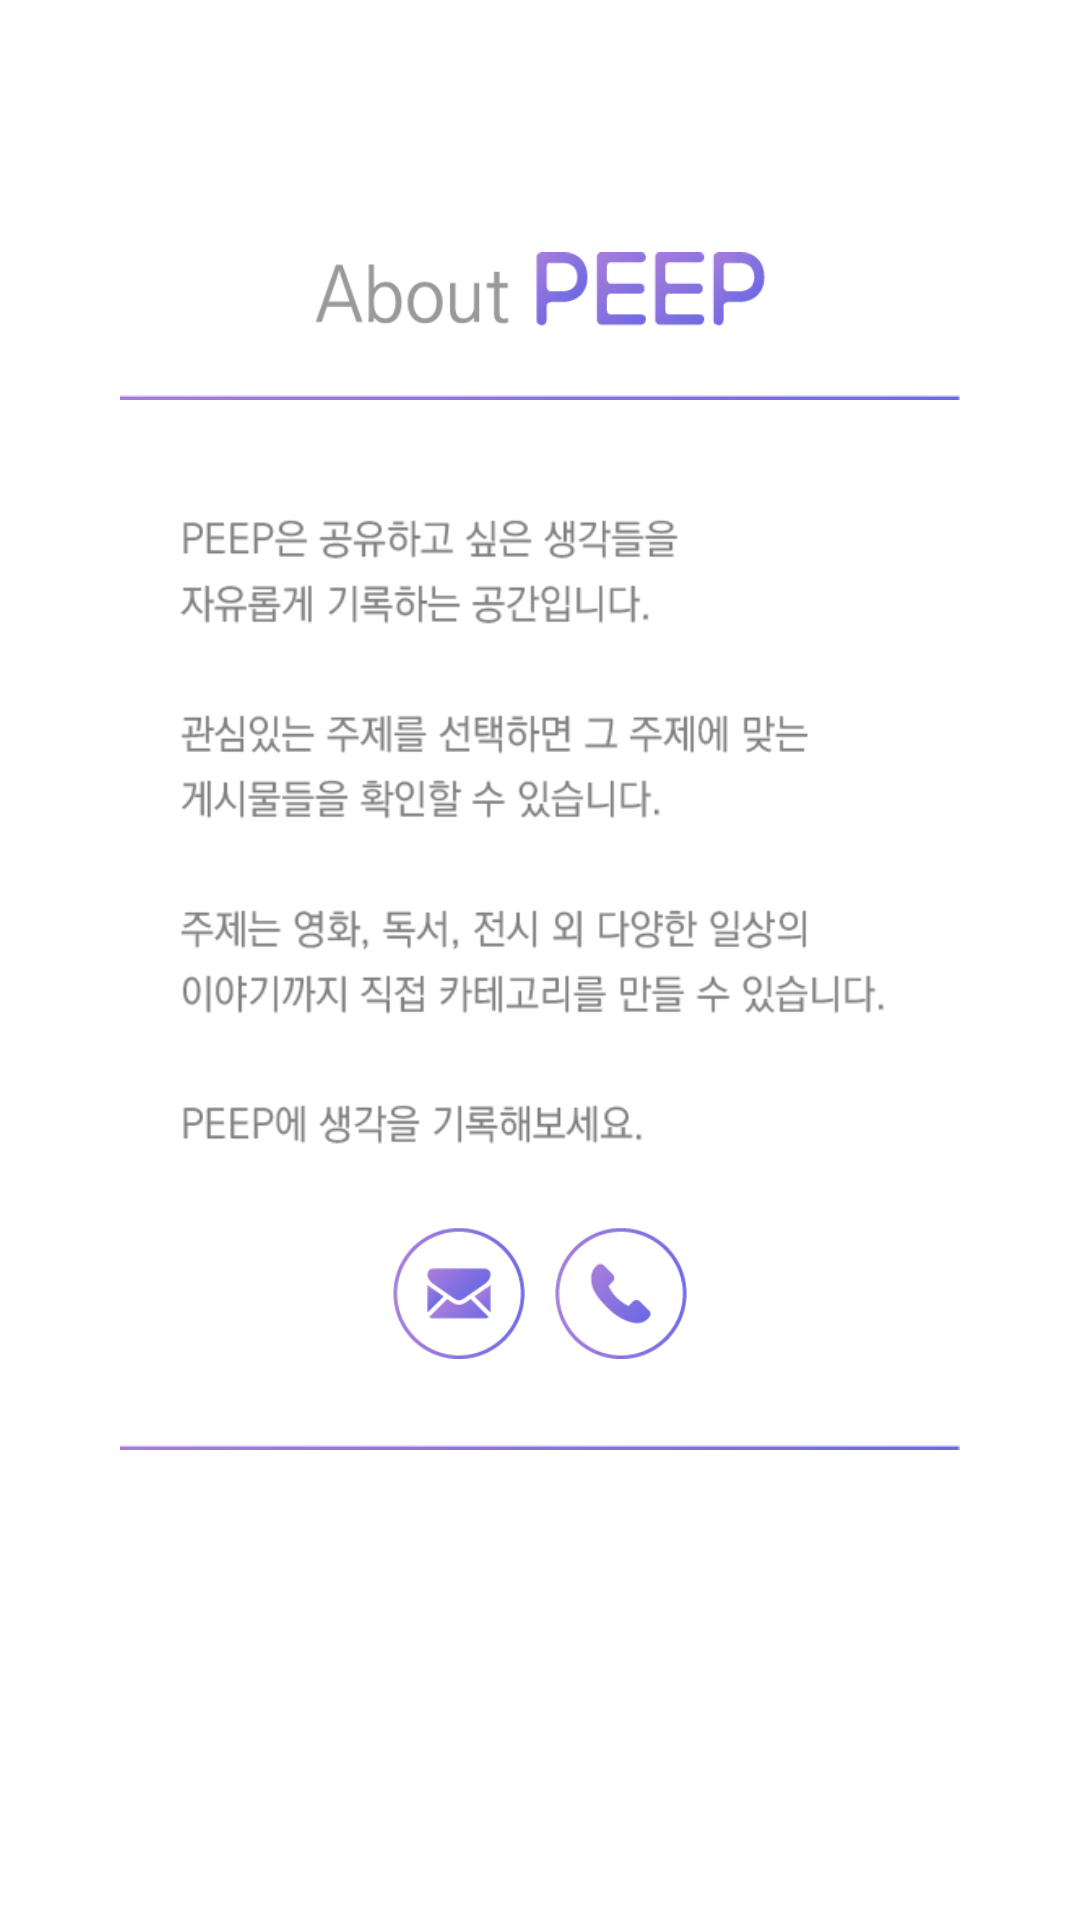

Where to tap for icons on this 1080×1920 app screen, as [x,y]:
call: [621,1293]
messege: [459,1293]
